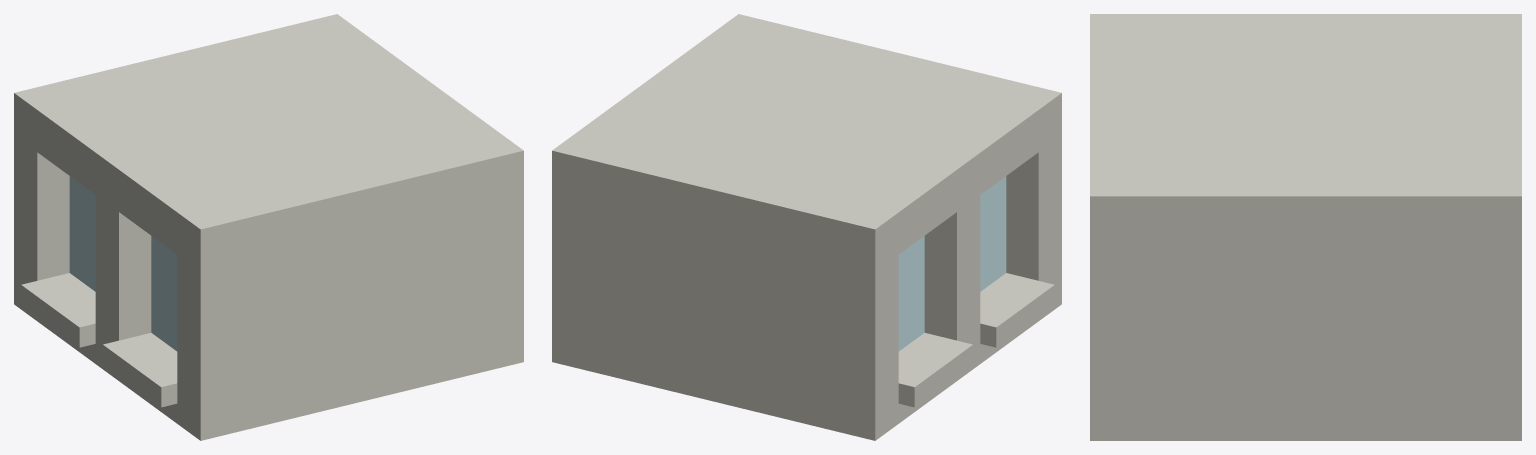
File: modularBuildings_034.gltf
3 renders of one model, left to right at view 1: azimuth 30°, elevation 25°; view 2: azimuth 150°, elevation 25°; view 3: azimuth 270°, elevation 25°, orthographic. The views are drawn at different scales.
Parts seen in each view (by area): view 1: Mesh1 Group1 Model; view 2: Mesh1 Group1 Model; view 3: Mesh1 Group1 Model.
Part boxes in pixels (x1,y1,x2,y2): Mesh1 Group1 Model: (14,14,523,440); Mesh1 Group1 Model: (552,14,1061,440); Mesh1 Group1 Model: (1090,14,1521,440).
Size of the model in its own units: 1.05 by 0.625 by 1.
